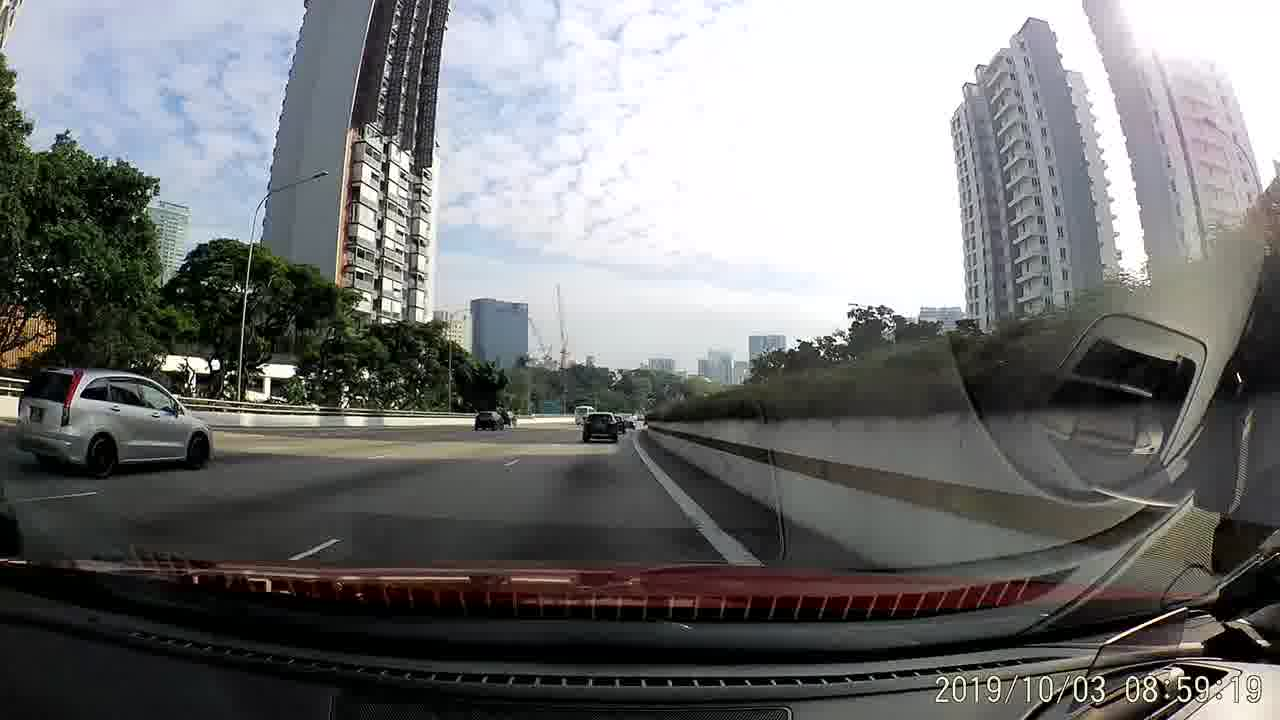car: (13, 362, 214, 476), (580, 407, 619, 444), (471, 406, 508, 432)
